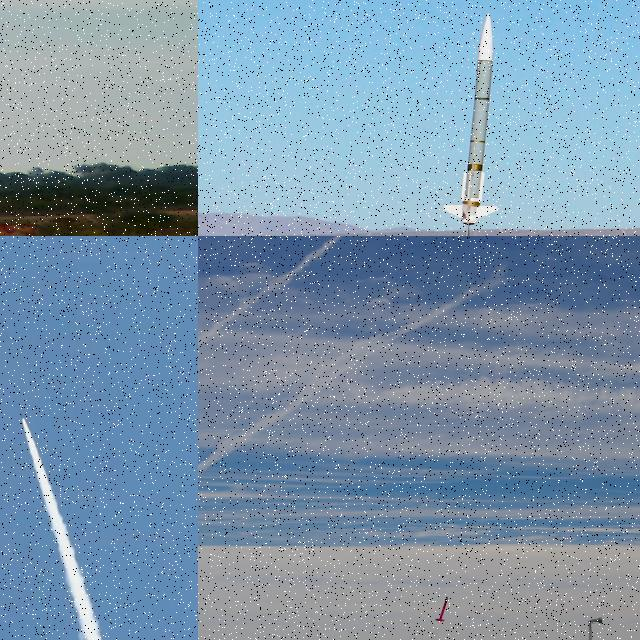Rocket: (442, 12, 500, 226), (435, 596, 448, 622), (20, 412, 24, 420)
